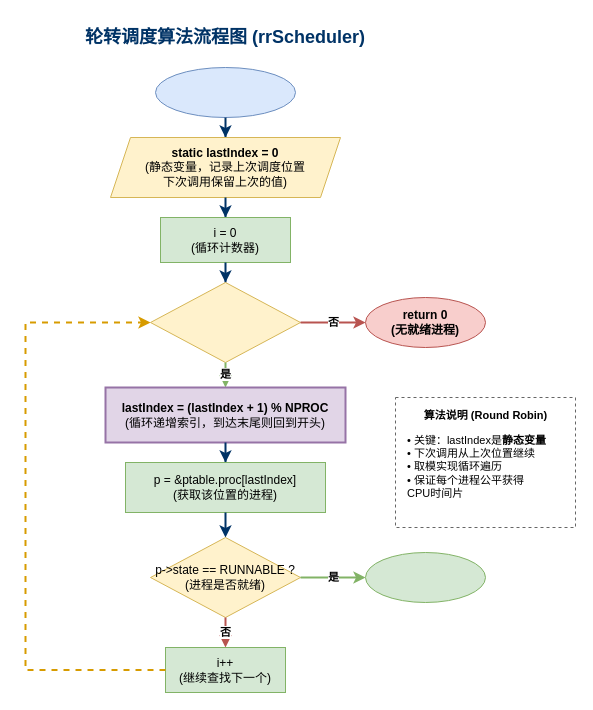
This 593x710 diagram has some shape labels left out. The centre of each missing label's shape, as x and y in pixels:
"i < NPROC ? (是否遍历完所有进程)" goes at (225,322).
"return p (找到就绪进程)" goes at (425,577).
"rrScheduler()" goes at (225,92).
